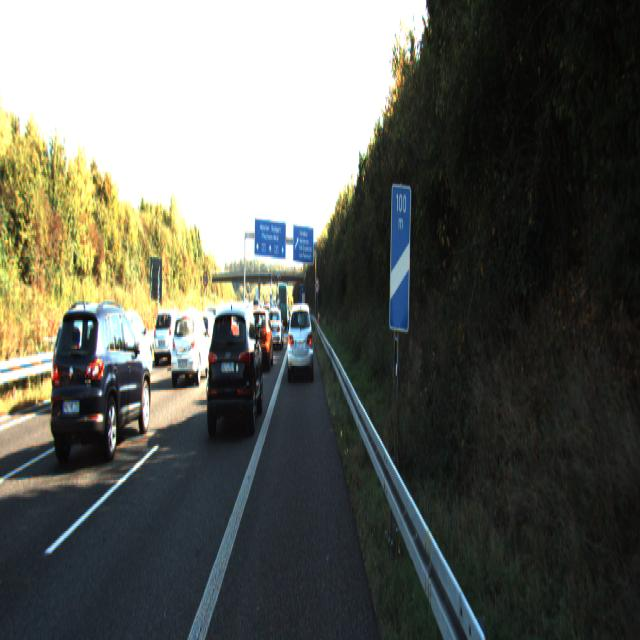Car: (46, 298, 150, 471), (205, 299, 264, 442), (169, 310, 211, 388), (287, 300, 314, 381), (152, 306, 187, 365), (246, 308, 274, 372), (266, 310, 284, 352)
Van: (278, 284, 289, 332)
